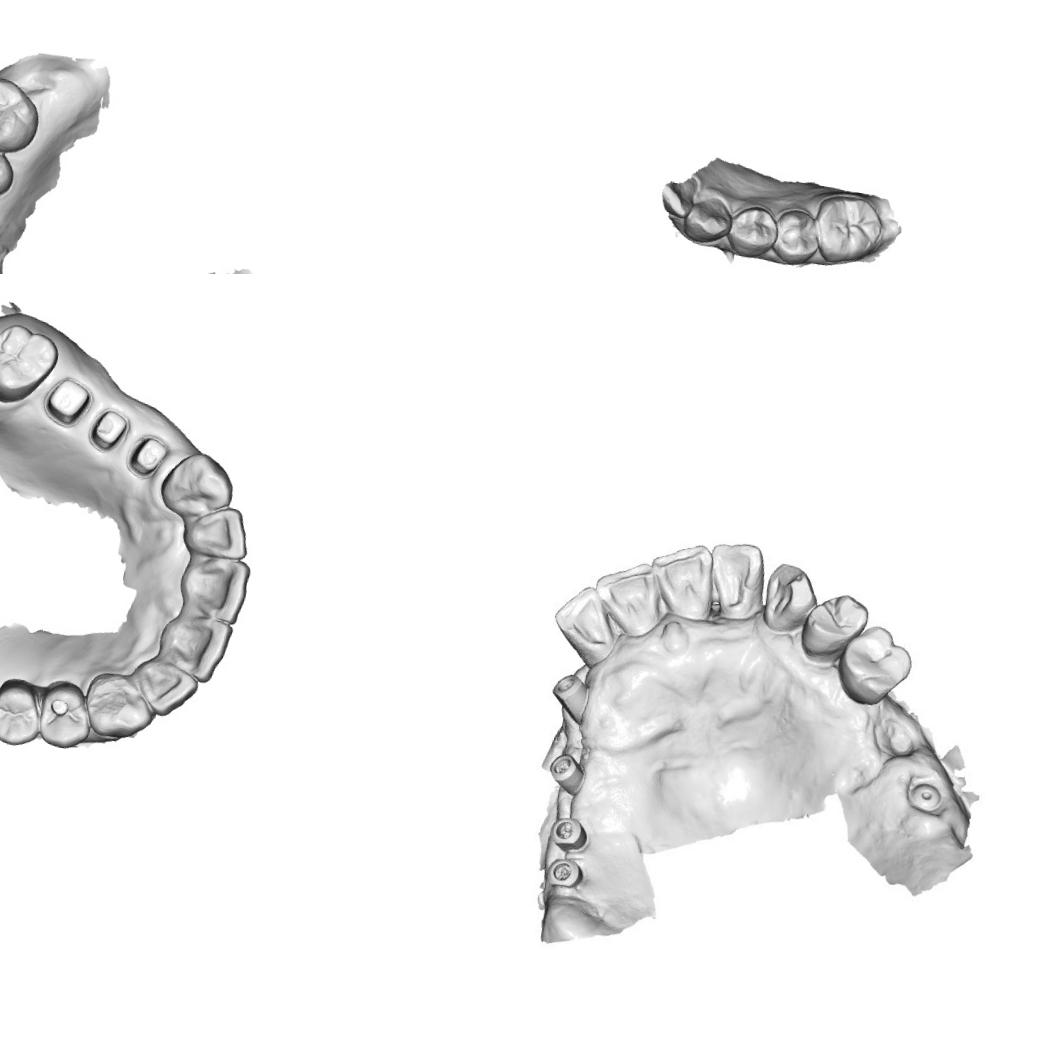abutment: (38, 366, 98, 435), (84, 396, 136, 460), (122, 424, 168, 480)
canine: (154, 442, 238, 524), (80, 665, 158, 747), (757, 556, 819, 636), (678, 188, 737, 248)
implant: (550, 671, 593, 714), (548, 752, 586, 796), (548, 814, 590, 852), (907, 777, 946, 814), (546, 856, 586, 891)
incisor: (176, 547, 258, 627), (152, 610, 232, 689), (649, 541, 724, 622), (173, 495, 256, 568), (592, 561, 668, 636), (551, 584, 616, 660), (129, 654, 202, 720), (705, 540, 765, 618)
molar: (0, 314, 65, 417), (810, 187, 888, 269), (0, 70, 45, 158)
premolar: (830, 620, 918, 713), (32, 673, 101, 755), (798, 586, 870, 657), (0, 675, 49, 751), (726, 200, 784, 264), (770, 206, 820, 268), (0, 133, 19, 201)
